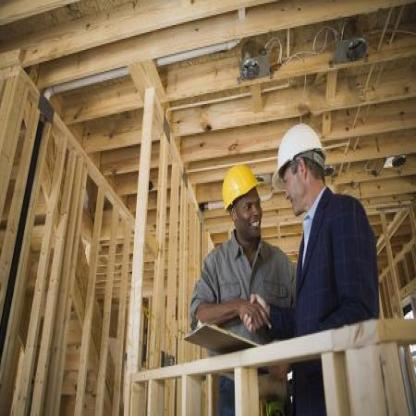helmet: (274, 118, 332, 211), (219, 161, 267, 241)
